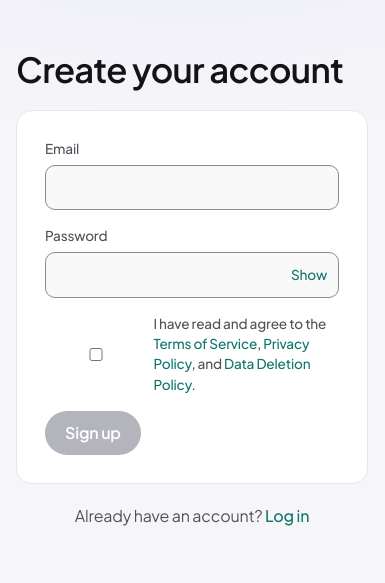
Test case: SignupPage › shows a generic error message for a non-API failure
In the field labelled "Email": (192, 188) [45, 165, 339, 210], type "new@example.com"
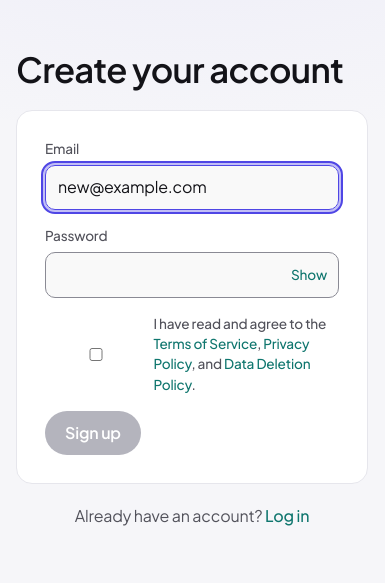
In the password field labelled "Password": (192, 275) [45, 252, 339, 298], type "supersecret123"
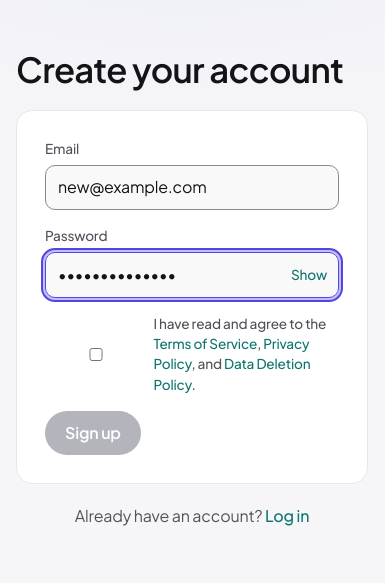
Click the checkbox: (96, 354) [45, 348, 147, 361]
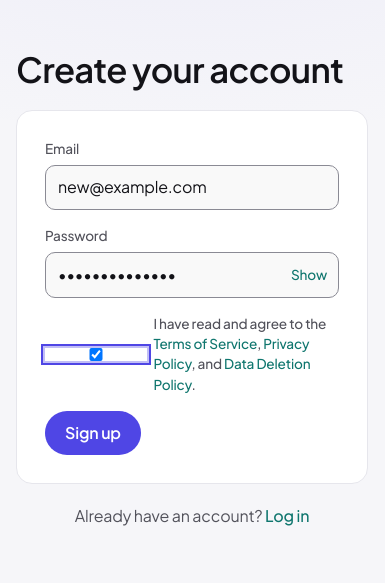
Click the button "Sign up": (93, 433) [45, 411, 141, 455]
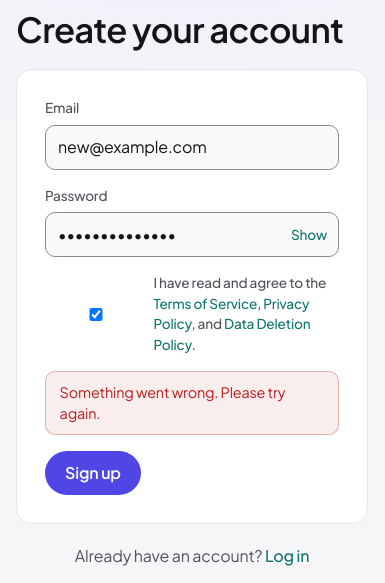
Now the message reads "Something went wrong. Please try again.", box [60, 383, 285, 422]
